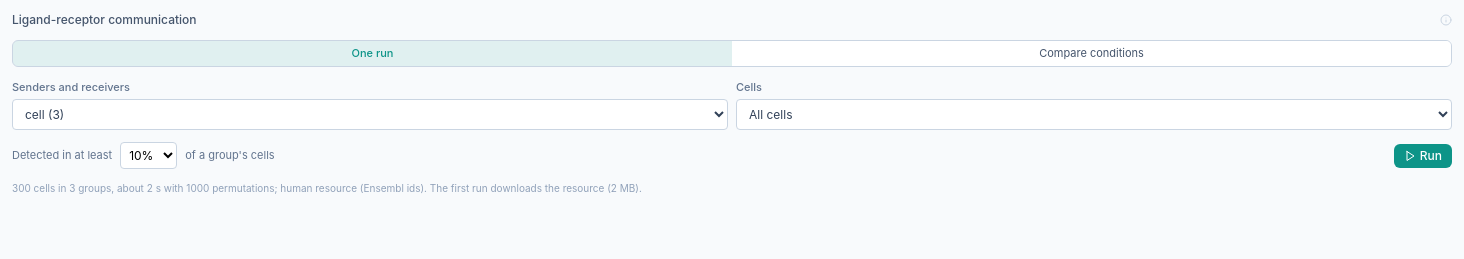
UnifiedCommunicationSubtab › says why a run failed
This screenshot has width=1464, height=259.
Check: the text "about 2 s" is shown, box [12,182,642,194]
Click the button "Run": (1423, 156) [1394,144,1452,168]
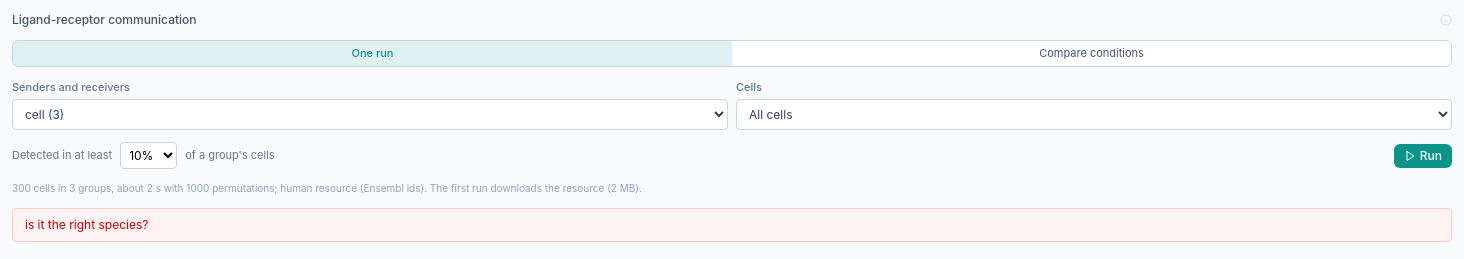
Check: the message shows "right species", box [25,217,148,232]
